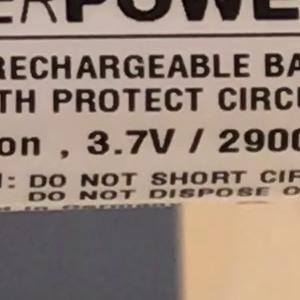keyword: (77, 118, 185, 165)
